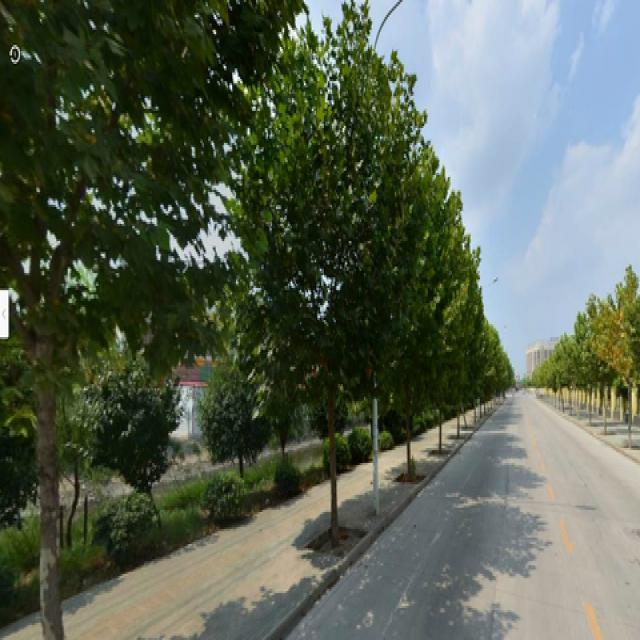meta: (9, 15, 160, 604), (260, 55, 363, 552), (385, 141, 439, 484)
